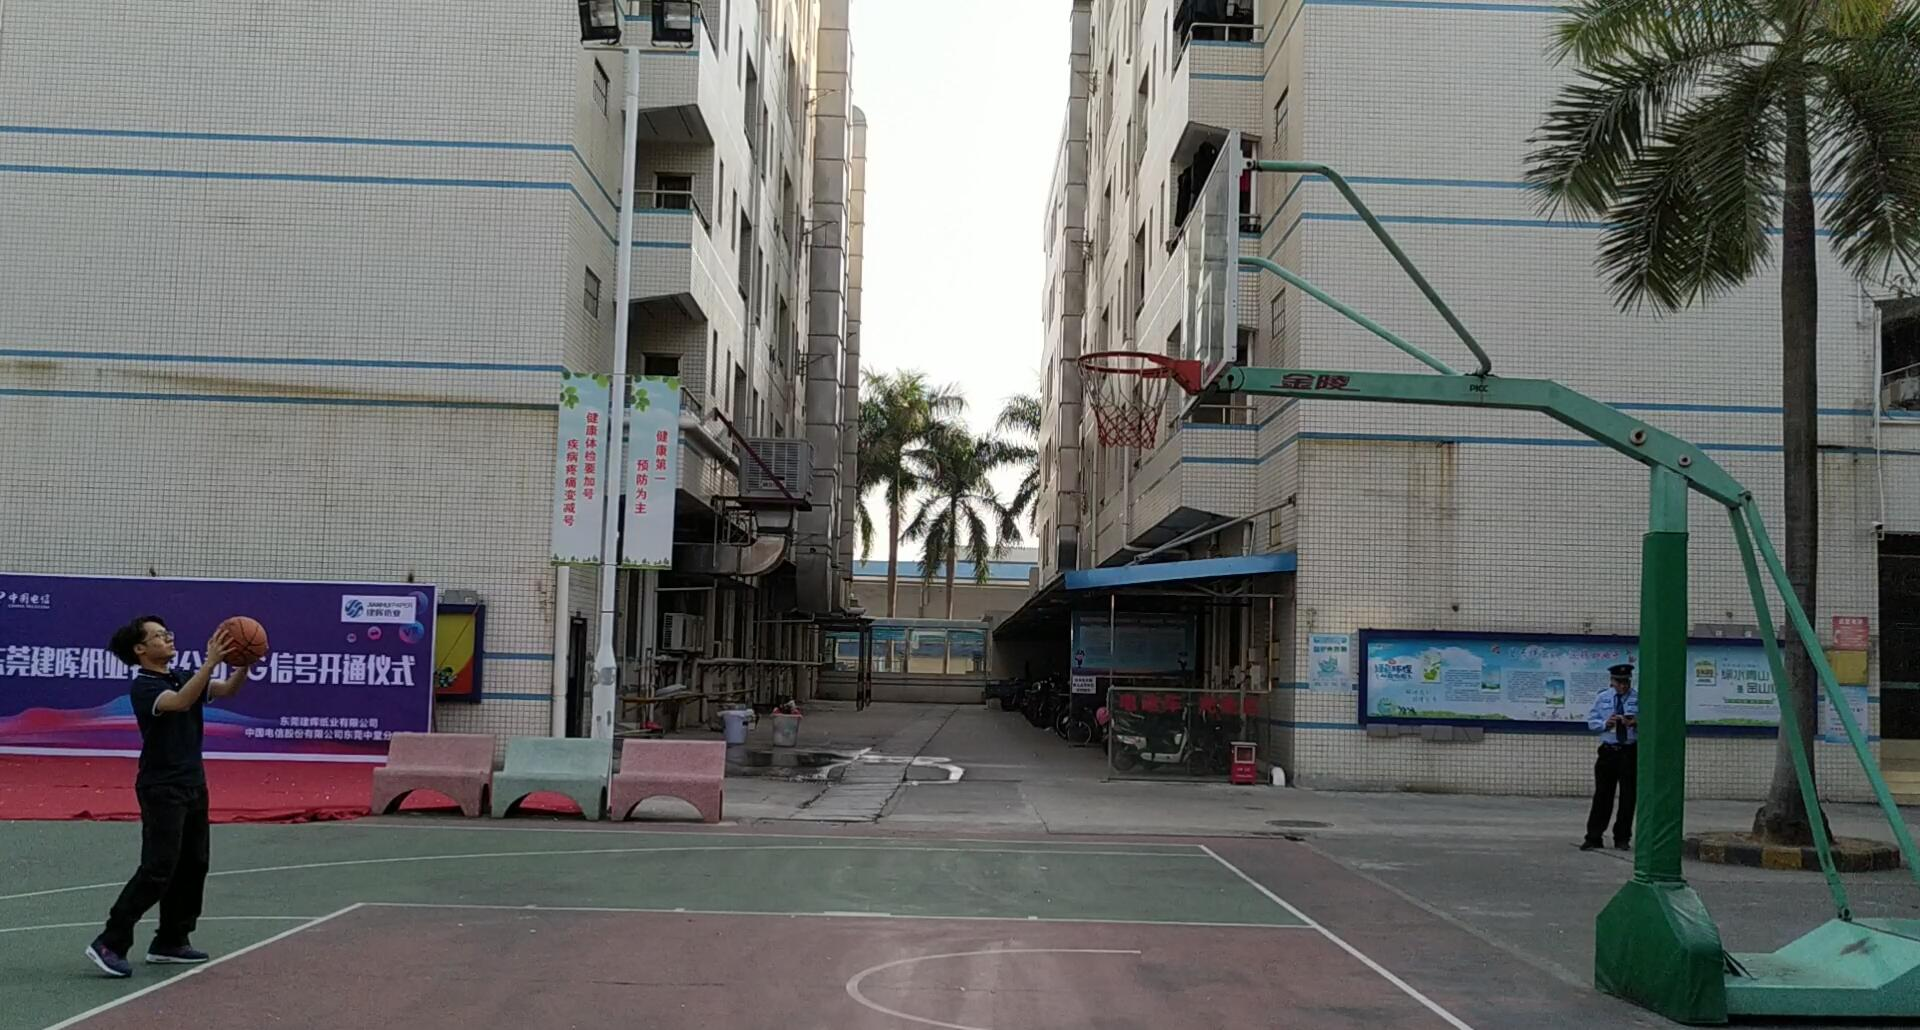basketball: (211, 613, 276, 677)
